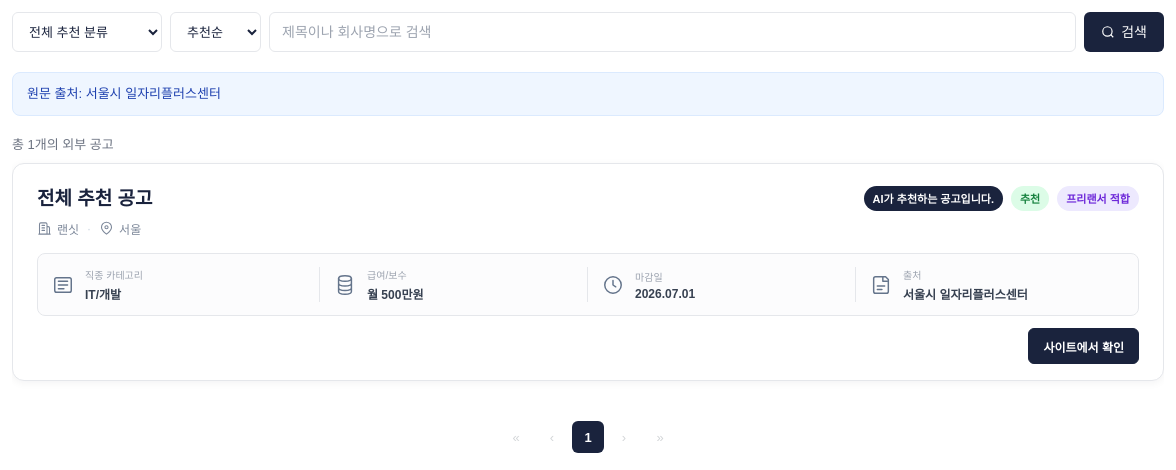
Test: ExternalJobListPanel › hides the AI recommendation copy when the HIGHLY_RECOMMENDED recommendation filter is selected
Select "매우 추천" in the dropdown named "추천 분류": x=87, y=32 [12, 12, 162, 52]
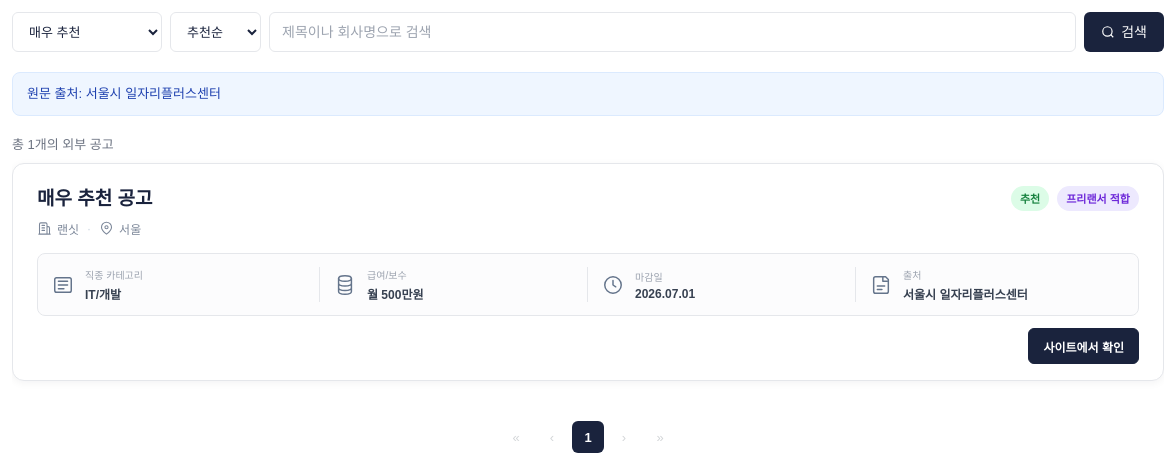
Expected: the text "매우 추천 공고" is shown, [37, 186, 152, 212]
Expected: the text "AI가 추천하는 공고입니다." is gone
